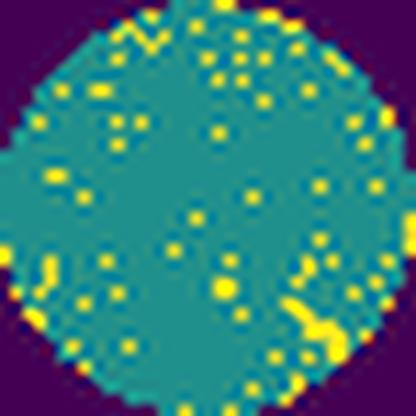Edge-Loc: (283, 294, 346, 362)
